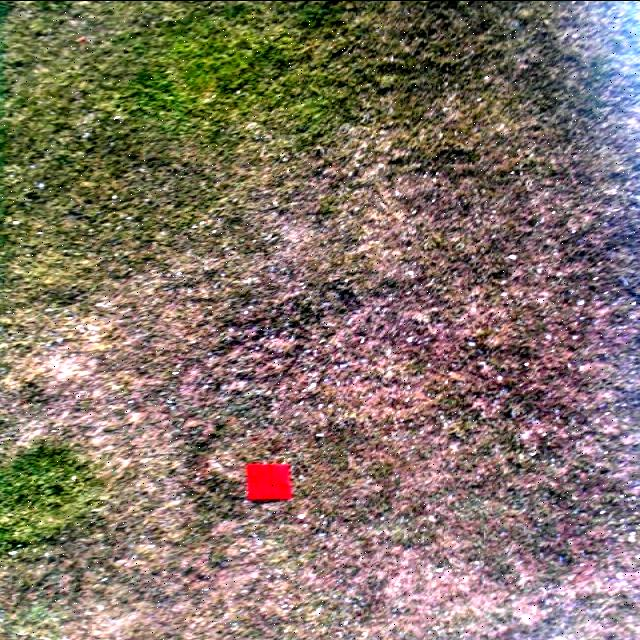red_square: (248, 464, 288, 499)
